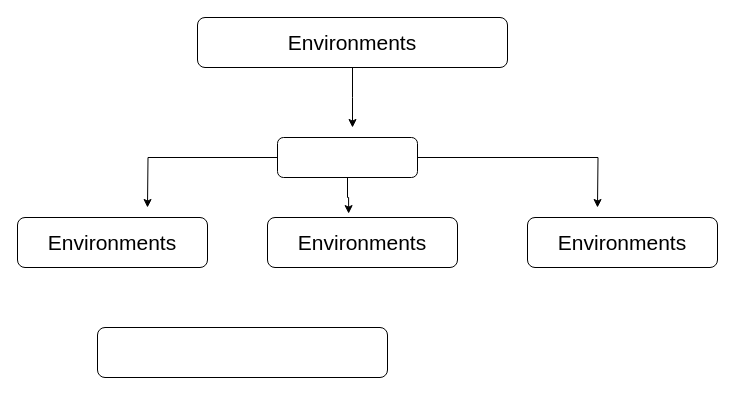
The diagram is 735 pixels wide and 395 high, and some of its shapes have lost their labels. The box of each missing label's shape, as (x1, y1, x2, y2) in pixels:
Flags: (276, 136, 418, 178)
User_group_membership: (96, 326, 388, 378)
